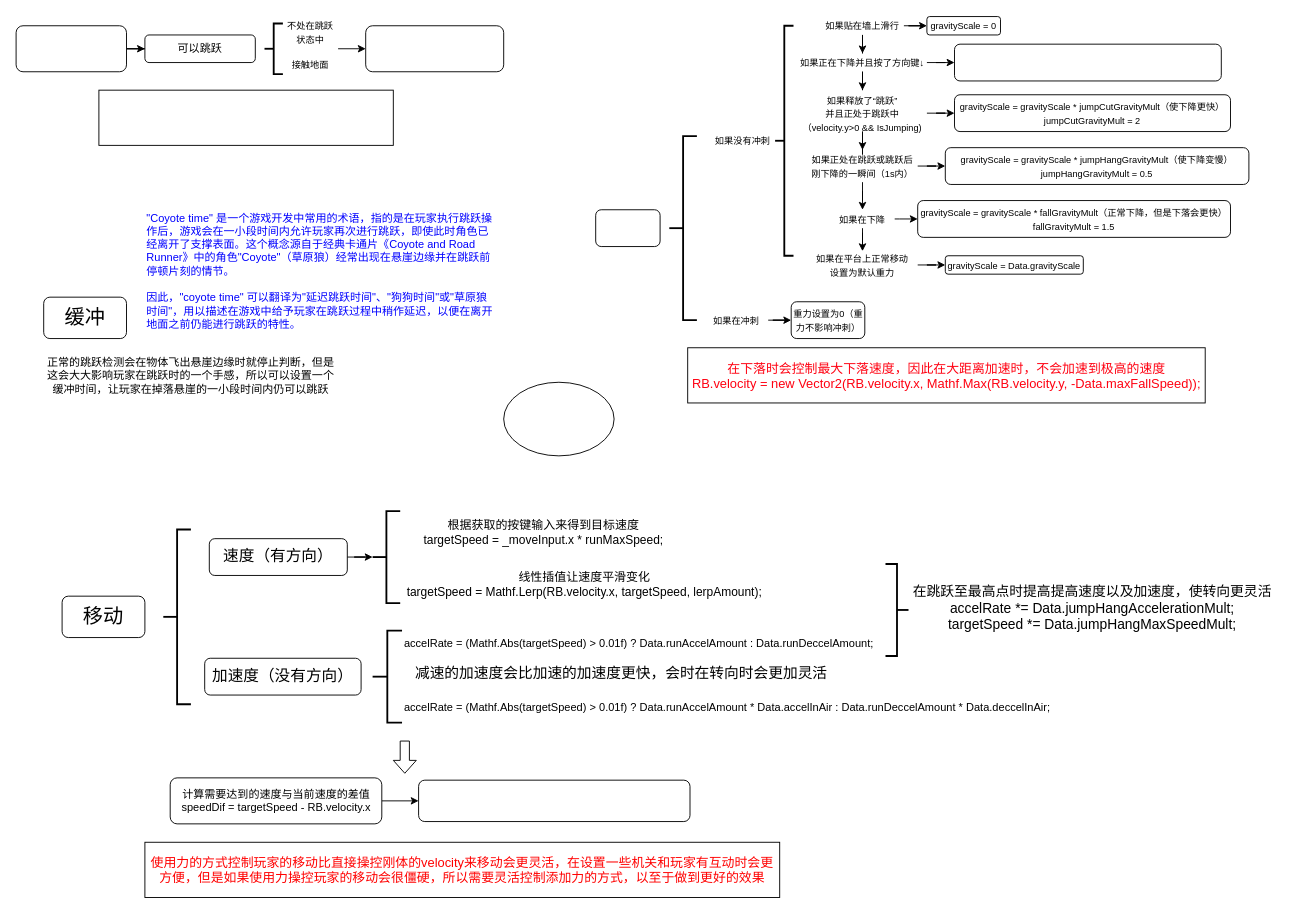
Image size: 1298x914. Some labels were removed from this diagram. Here are the shapes that lost their labels. From the top down, the centre of each, then its label:
At (x=70, y=48): "按下 “跳跃” 时 LastPressedJumpTime = Data.jumpInputBufferTime".
At (x=434, y=48): "添加一个力使其跳跃 如果正在下降，会添加向下的力使下降更快".
At (x=1087, y=62): "gravityScale = gravityScale * fastFallGravityMult（使下降更快） fastFallGravityMult = 2".
At (x=245, y=117): "经过测试结果发现，其实跳跃的高度并不是由按下的“跳跃”持续时间长短决定，而是在你释放“跳跃”时更改重力从而展现出按下空格越久跳的越高的现象".
At (x=627, y=228): "重力".
At (x=558, y=418): "PlayerMovement".
At (x=554, y=800): "用差值来乘加速度表示添加给玩家的力使玩家移动 float movement = speedDif * accelRate;".
